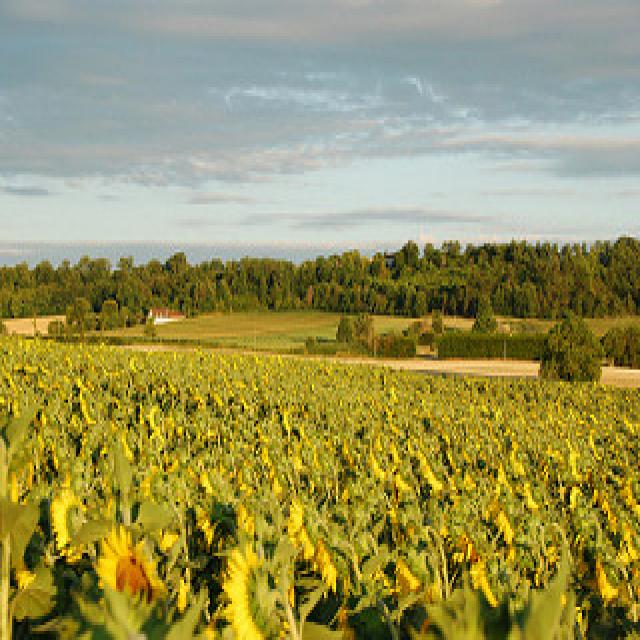sunflower: (92, 529, 162, 628), (222, 538, 286, 640), (45, 486, 93, 572), (390, 541, 440, 613), (287, 494, 325, 570), (317, 534, 359, 600), (448, 516, 486, 582), (482, 498, 520, 552)
